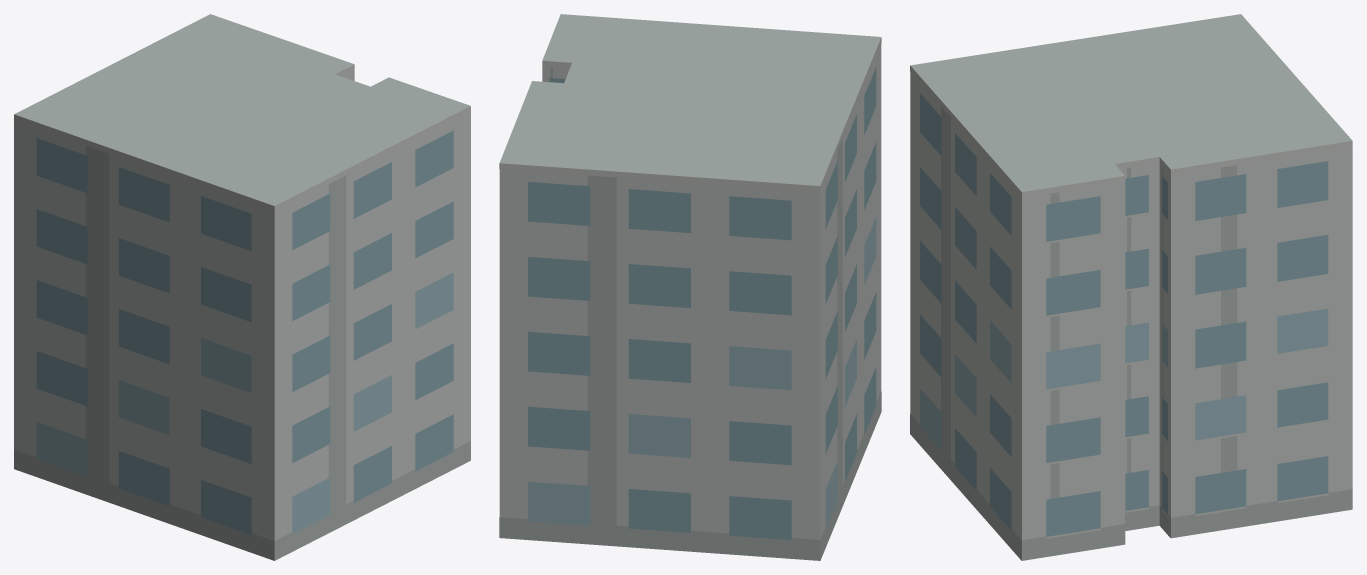
Rendered from survey-upis-32858244.glb.
The picture shows the model from 3 angles, left to right: view 1: azimuth 30°, elevation 25°; view 2: azimuth 150°, elevation 25°; view 3: azimuth 270°, elevation 25°; orthographic projection. The views are drawn at different scales.
Visible parts, largest first — view 1: survey-upis-32858244.tmp; view 2: survey-upis-32858244.tmp; view 3: survey-upis-32858244.tmp.
Part boxes in pixels (<box>): survey-upis-32858244.tmp: <box>14,14,470,560</box>; survey-upis-32858244.tmp: <box>499,14,881,560</box>; survey-upis-32858244.tmp: <box>910,14,1352,560</box>.
Size of the model in its own units: 15.6 by 15.05 by 16.38.
